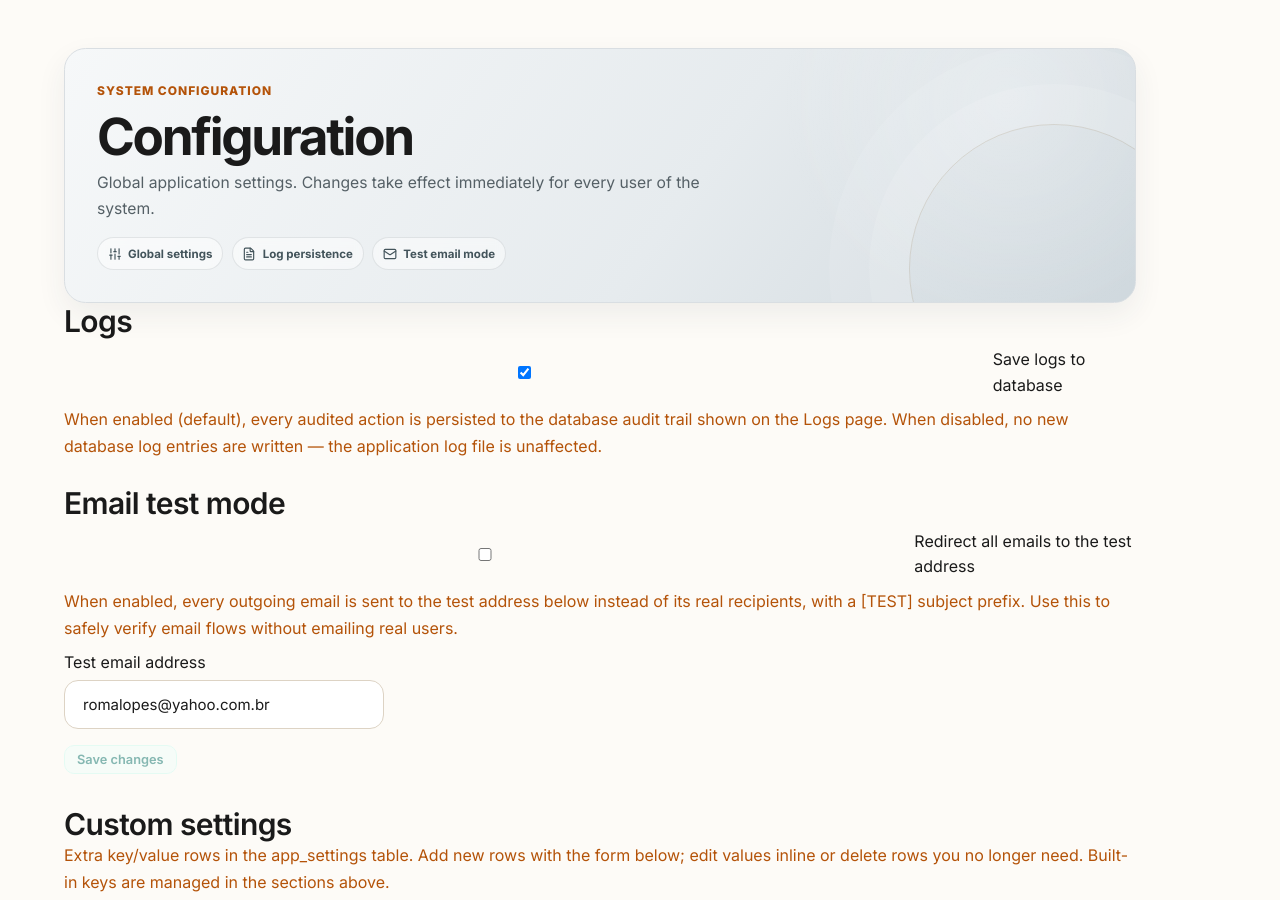
Scenario: ConfigurationSettings page › saves changed settings
Click the checkbox labelled "Redirect all emails to the test address" at (485, 554), box [64,548,906,561]
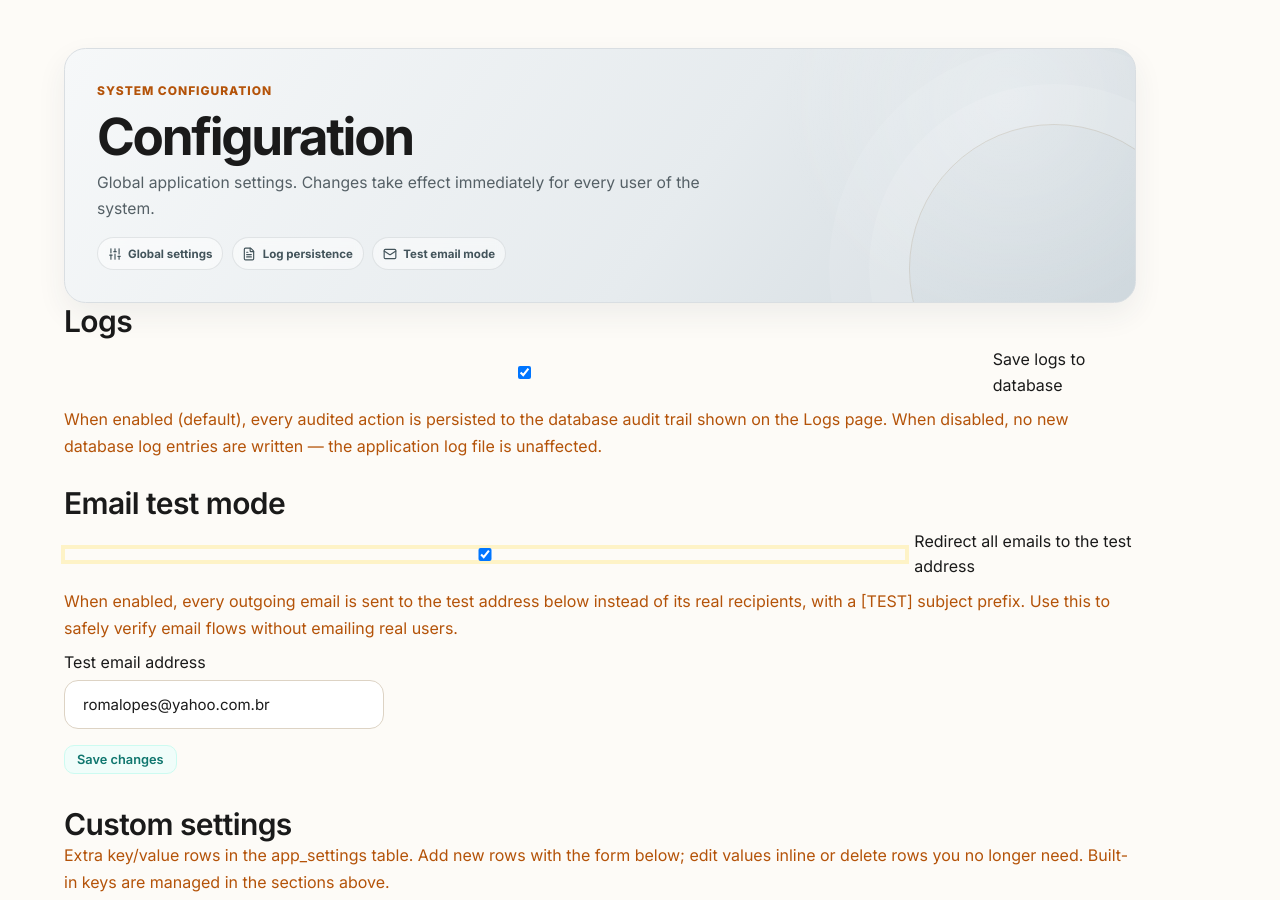
Result: the checkbox labelled "Redirect all emails to the test address" is checked at [64,548,906,561]
Result: the button "Save changes" is enabled
Click the button "Save changes" at (120, 759), box [64,745,177,774]
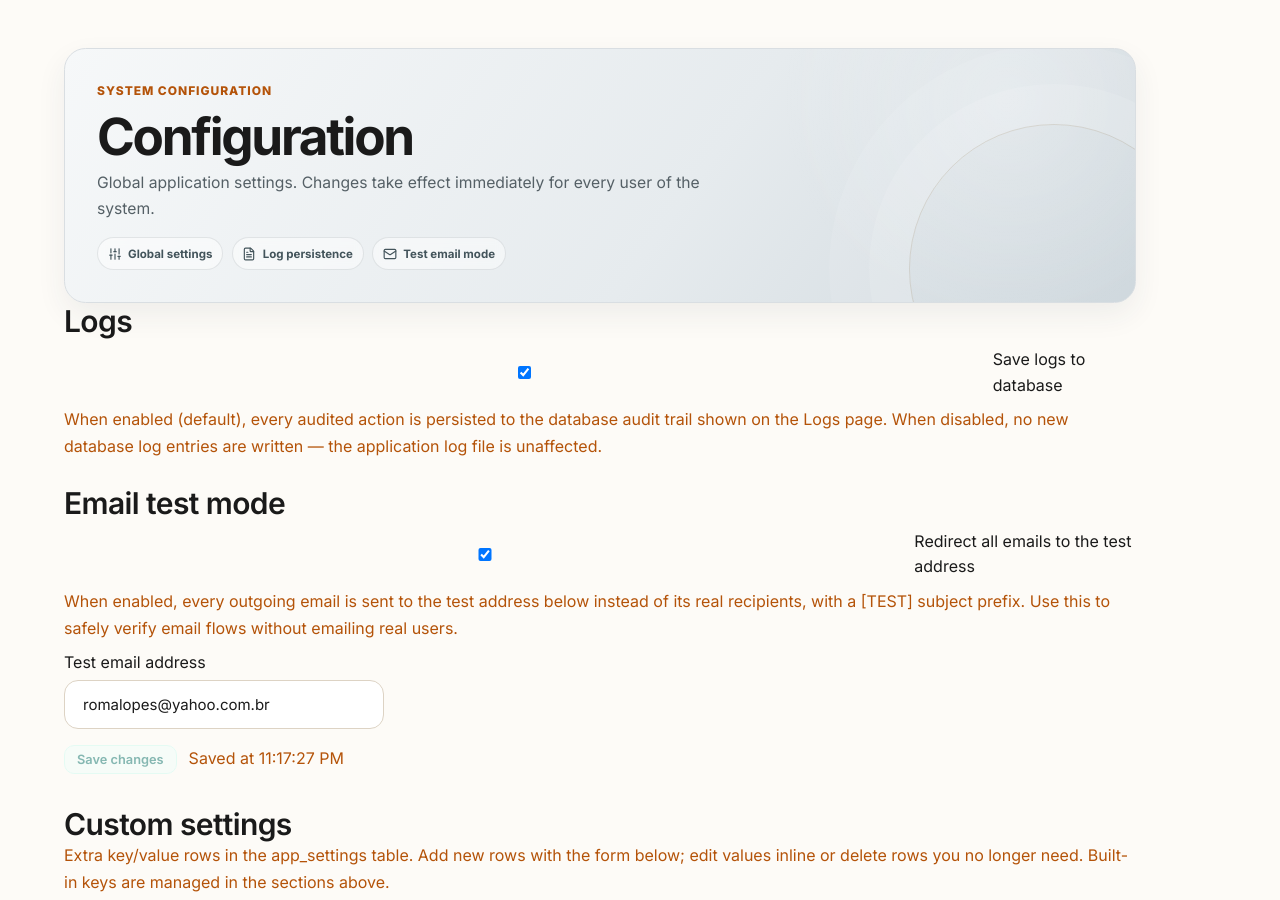
Result: the text "Saved at 11:17:27 PM" is shown at [189,746,344,772]
